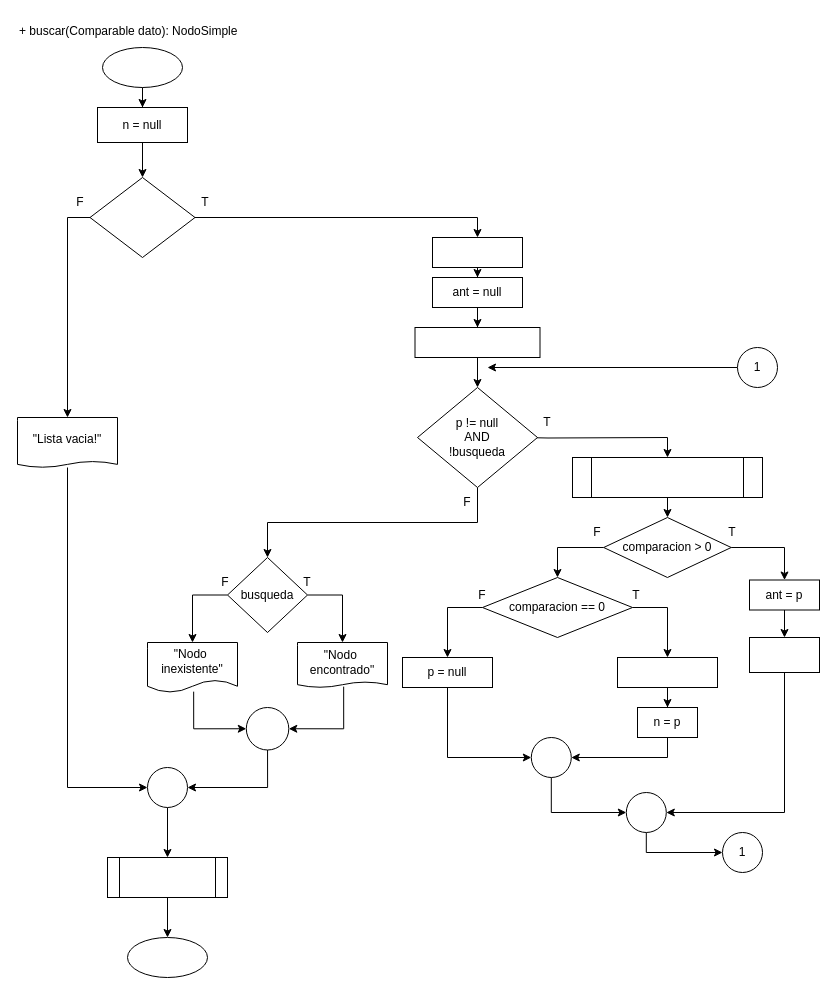
Some shapes in this 837 by 995 pixel diagram are drawn without their labels. The centre of each missing label's shape, as x and y in pixels:
"!estaVacia()" belongs at point 142,217.
"busqueda = false" belongs at point 477,342.
"busqueda = true" belongs at point 667,672.
"comparacion = dato.compareTo(p.dato)" belongs at point 667,477.
"p = inicio" belongs at point 477,252.
"p = p.siguiente" belongs at point 784,654.
"return n" belongs at point 167,877.
